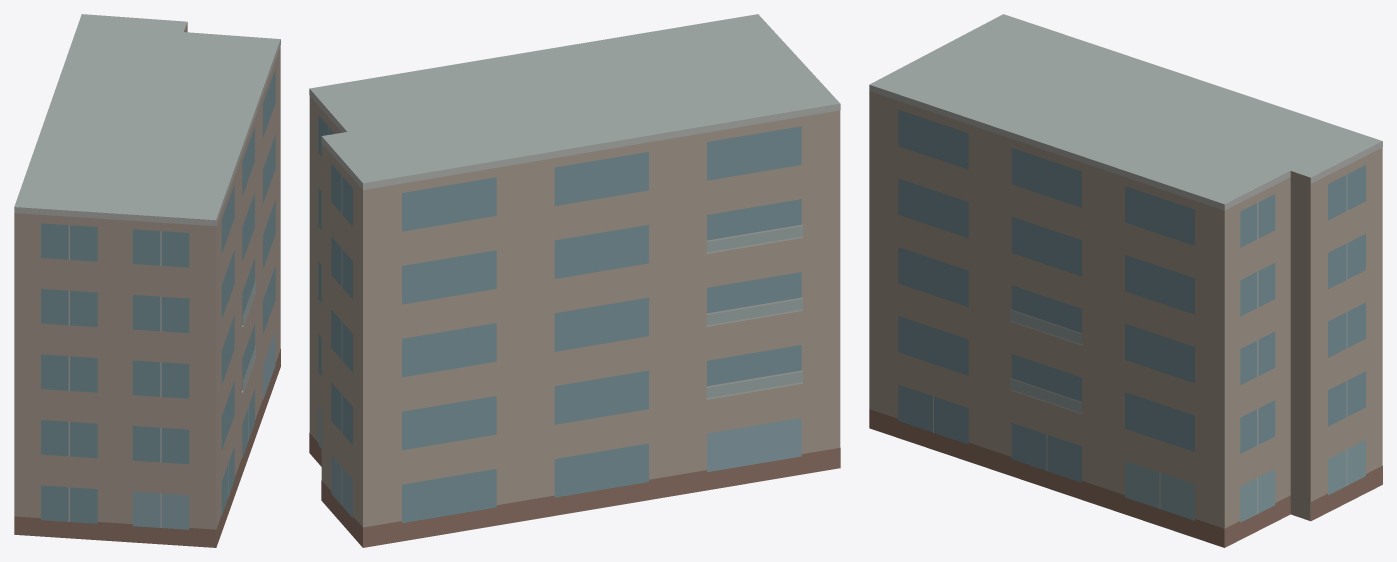
Rendered from survey-upis-32670083.glb.
3 views of the same model, side by side, from view 1: azimuth 30°, elevation 25°; view 2: azimuth 150°, elevation 25°; view 3: azimuth 270°, elevation 25° (orthographic). The views are drawn at different scales.
Visible parts, largest first — view 1: survey-upis-32670083.tmp; view 2: survey-upis-32670083.tmp; view 3: survey-upis-32670083.tmp.
Part boxes in pixels (box(x1,y1,x2,y2)): survey-upis-32670083.tmp: box(14, 14, 280, 547); survey-upis-32670083.tmp: box(309, 14, 840, 547); survey-upis-32670083.tmp: box(869, 14, 1382, 547).
Bounding box in the file's own units: 15.81 × 13.3 × 18.02.
